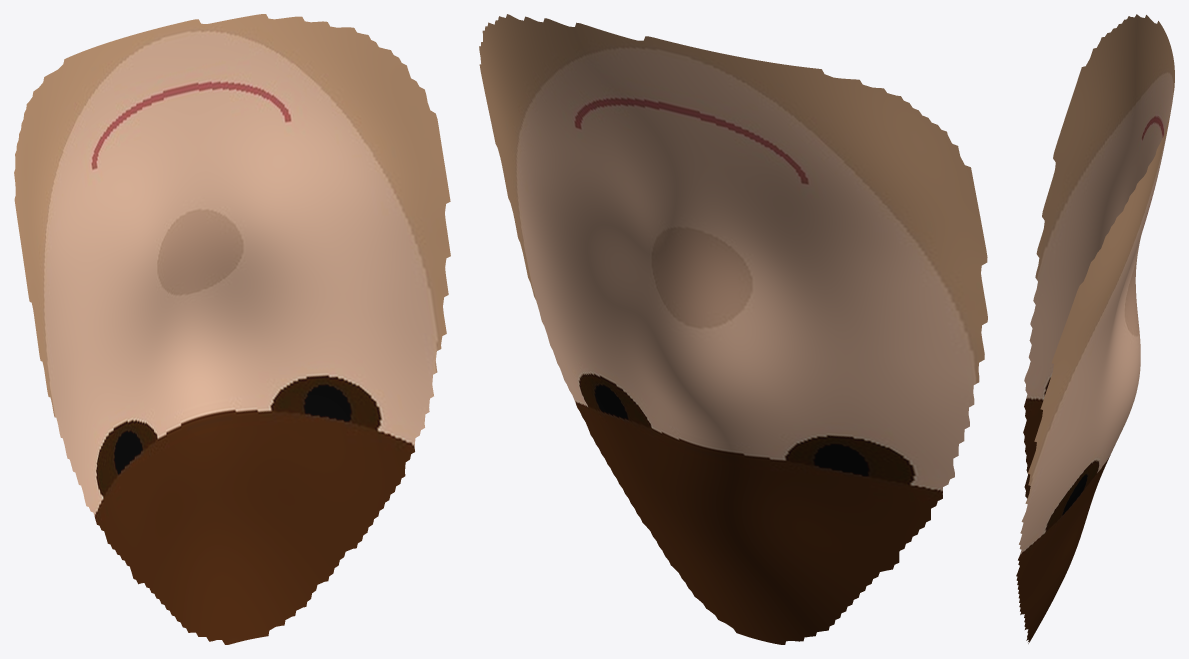
The model's file is premium_test.glb.
3 renders of one model, left to right at view 1: azimuth 30°, elevation 25°; view 2: azimuth 150°, elevation 25°; view 3: azimuth 270°, elevation 25°, orthographic. The views are drawn at different scales.
Parts seen in each view (by area): view 1: Face; view 2: Face; view 3: Face.
Boxes of the visible parts, x1,y1,x2,y2 form: Face: (14,14,450,644); Face: (479,14,987,644); Face: (1016,14,1174,643).
Bounding box in the file's own units: 0.1455 × 0.1859 × 0.0481.
1 material, 1 textured.
